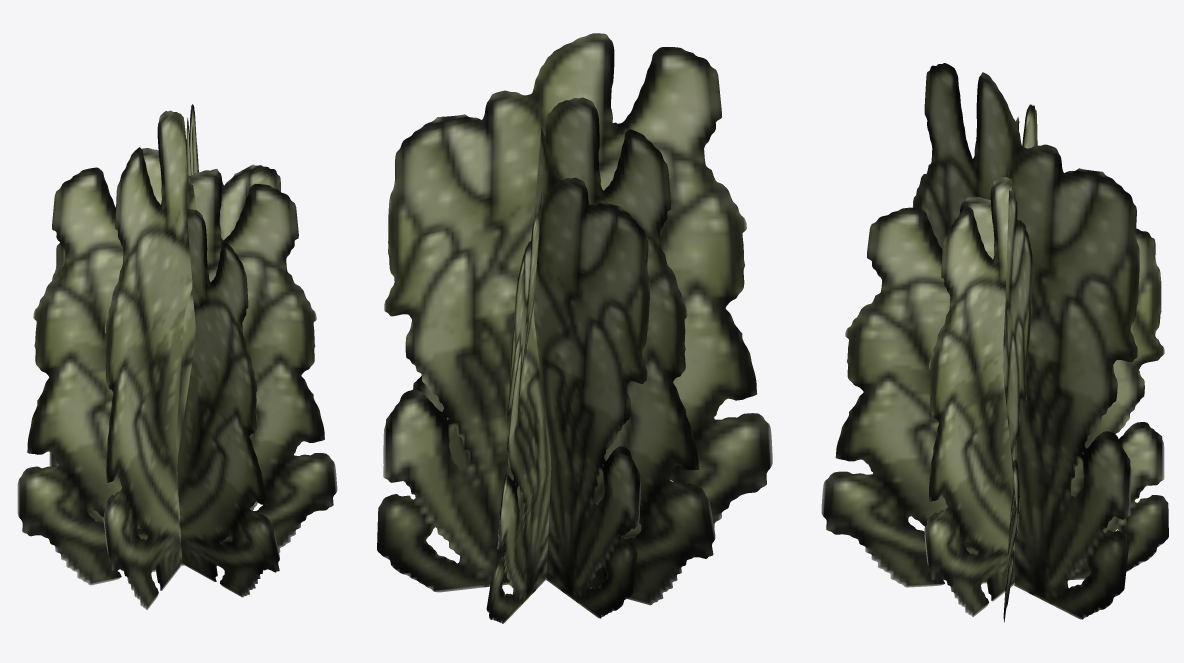
The model's file is Shrooms.fbx.
3 renders of one model, left to right at view 1: azimuth 30°, elevation 25°; view 2: azimuth 150°, elevation 25°; view 3: azimuth 270°, elevation 25°, orthographic. The views are drawn at different scales.
Parts seen in each view (by area): view 1: Shrooms; view 2: Shrooms; view 3: Shrooms.
Boxes of the visible parts, x1=… form: Shrooms: x1=17, y1=104, x2=337, y2=609; Shrooms: x1=377, y1=33, x2=772, y2=623; Shrooms: x1=821, y1=63, x2=1168, y2=622.
Bounding box in the file's own units: 280 × 447 × 282.
1 material, 1 textured.
